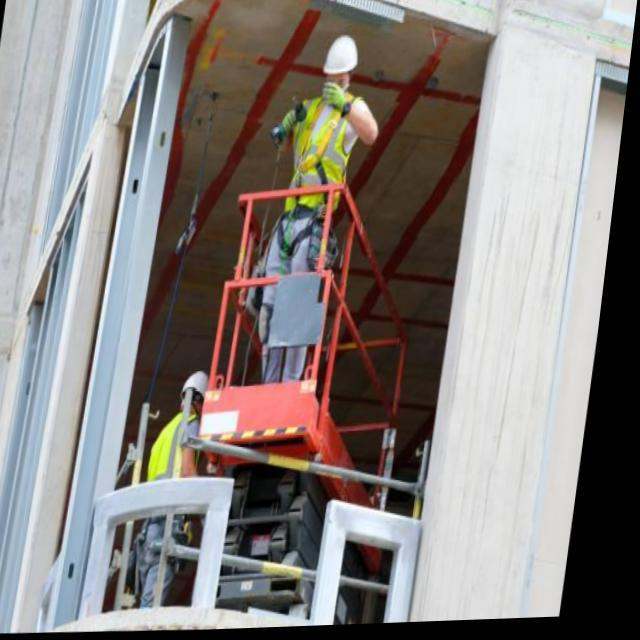belt: (280, 96, 358, 255)
